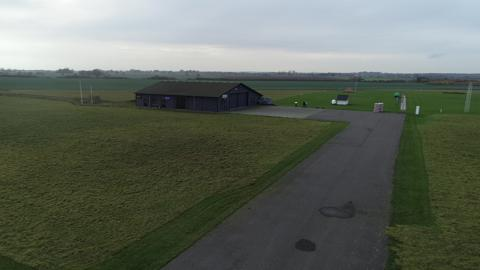RockwoolPallet: (373, 102, 381, 113)
